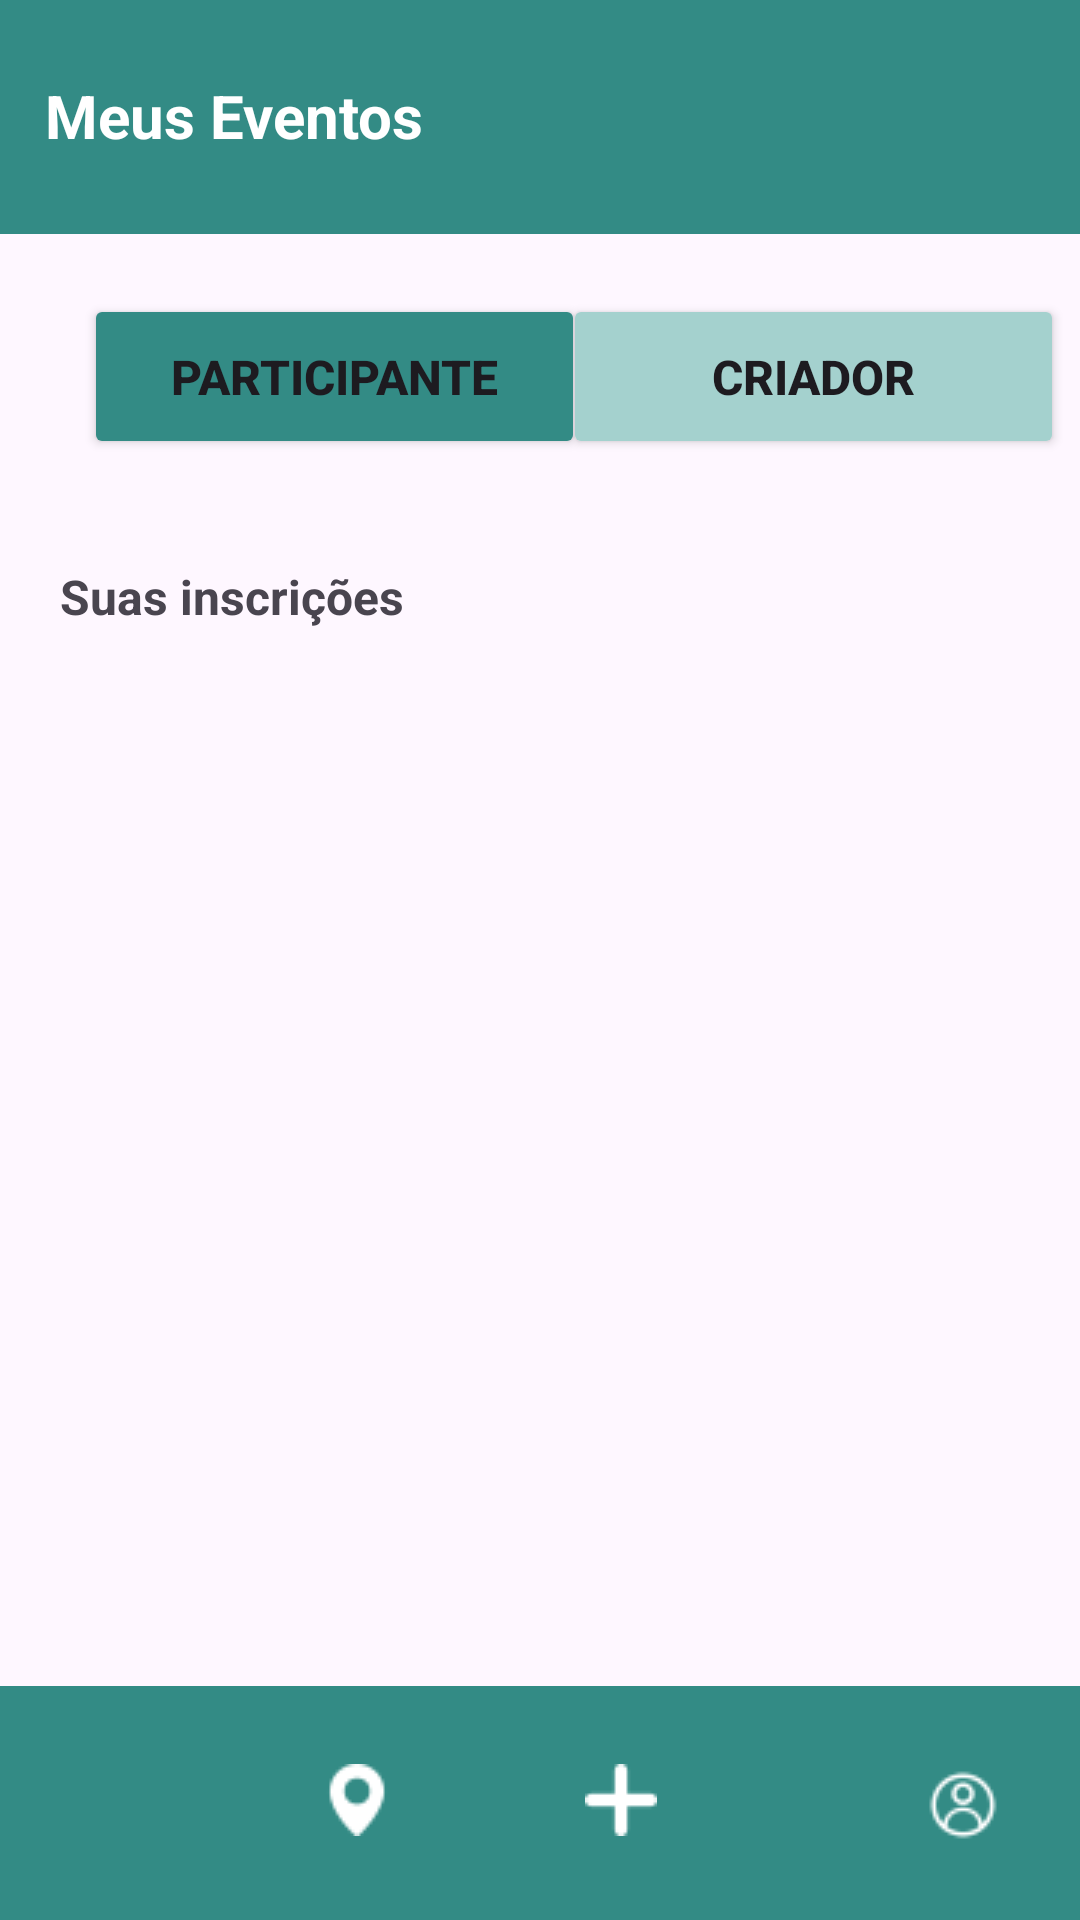

Point at icon controls on the screen. Image size 1080w x 1920h, points as (x=x, y=y).
localizacao: (x=357, y=1800)
mais: (x=621, y=1800)
perfil: (x=963, y=1805)
